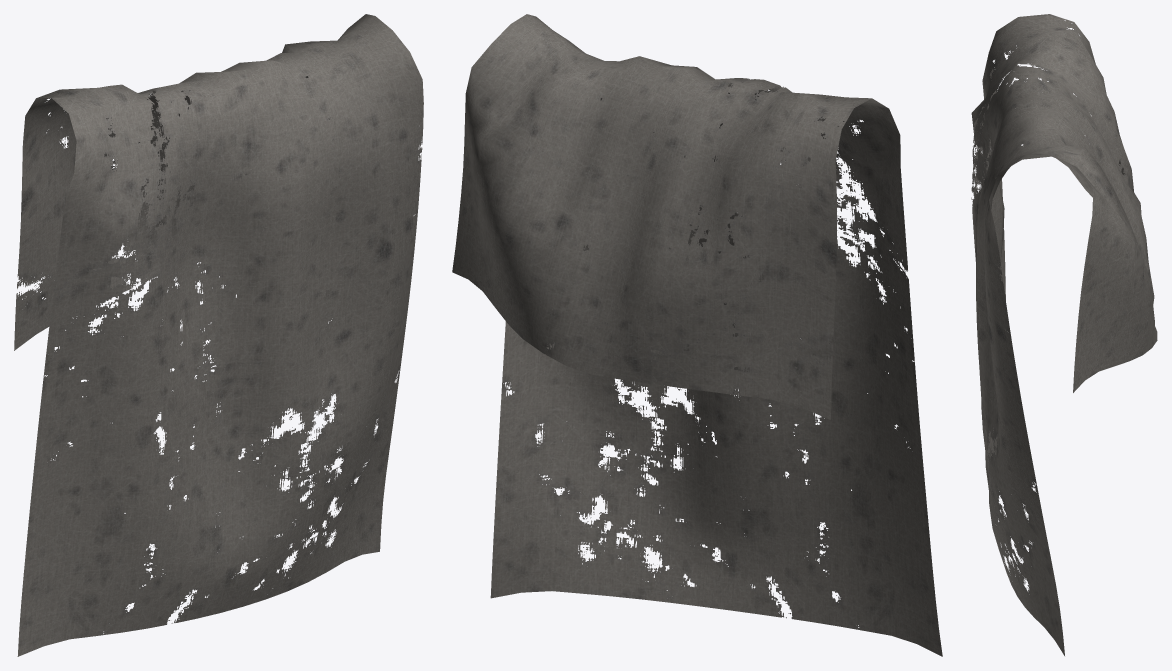
Rendered from SM_TentHanging02.FBX.
3 renders of one model, left to right at view 1: azimuth 30°, elevation 25°; view 2: azimuth 150°, elevation 25°; view 3: azimuth 270°, elevation 25°, orthographic. The views are drawn at different scales.
Parts seen in each view (by area): view 1: SM_TentHanging02_LOD0; view 2: SM_TentHanging02_LOD0; view 3: SM_TentHanging02_LOD0.
Boxes of the visible parts, bbox=[...] form: SM_TentHanging02_LOD0: bbox=[14, 14, 423, 656]; SM_TentHanging02_LOD0: bbox=[452, 14, 942, 656]; SM_TentHanging02_LOD0: bbox=[971, 14, 1157, 655].
Bounding box in the file's own units: 105 × 43.53 × 128.
